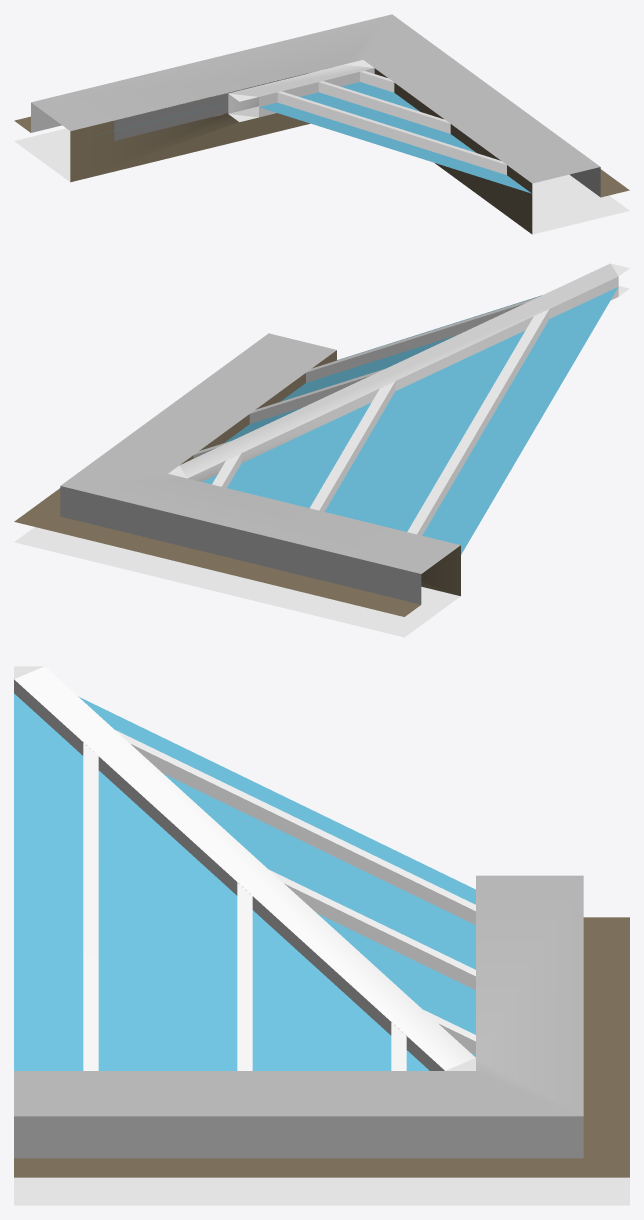
Rendered from SM_Window_Roof_Turn_01.FBX.
The picture shows the model from 3 angles, top to bottom: view 1: azimuth 30°, elevation 25°; view 2: azimuth 150°, elevation 25°; view 3: azimuth 270°, elevation 25°; orthographic projection. The views are drawn at different scales.
Visible parts, largest first — view 1: SM_Window_Roof_Turn_01; view 2: SM_Window_Roof_Turn_01; view 3: SM_Window_Roof_Turn_01.
Part boxes in pixels (x1,y1,x2,y2): SM_Window_Roof_Turn_01: [14, 14, 629, 234]; SM_Window_Roof_Turn_01: [14, 263, 629, 637]; SM_Window_Roof_Turn_01: [14, 666, 629, 1205].
Size of the model in its own units: 400 by 400 by 200.
